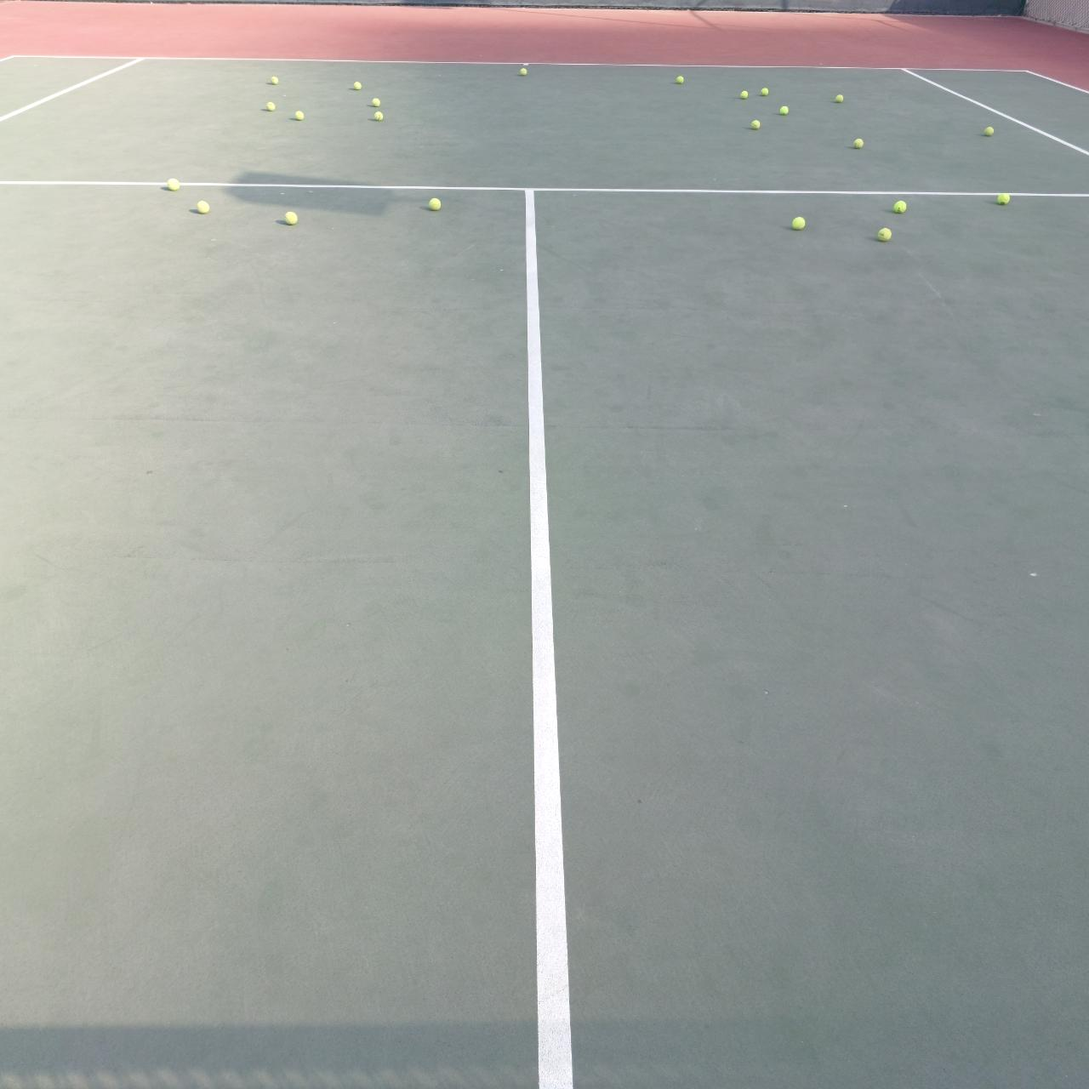tennis-ball: (282, 208, 298, 225), (195, 198, 210, 214), (164, 176, 180, 191), (791, 216, 806, 231), (427, 196, 442, 211), (892, 200, 907, 215), (877, 227, 892, 242), (998, 194, 1010, 205), (853, 139, 864, 149), (984, 126, 994, 137), (266, 102, 276, 112), (374, 111, 383, 122), (295, 111, 304, 121), (751, 120, 760, 130), (353, 81, 362, 90), (372, 98, 381, 107), (780, 106, 789, 115), (835, 94, 844, 103), (270, 76, 278, 85), (740, 91, 748, 100), (519, 68, 527, 76), (676, 76, 684, 84), (760, 88, 768, 96)
